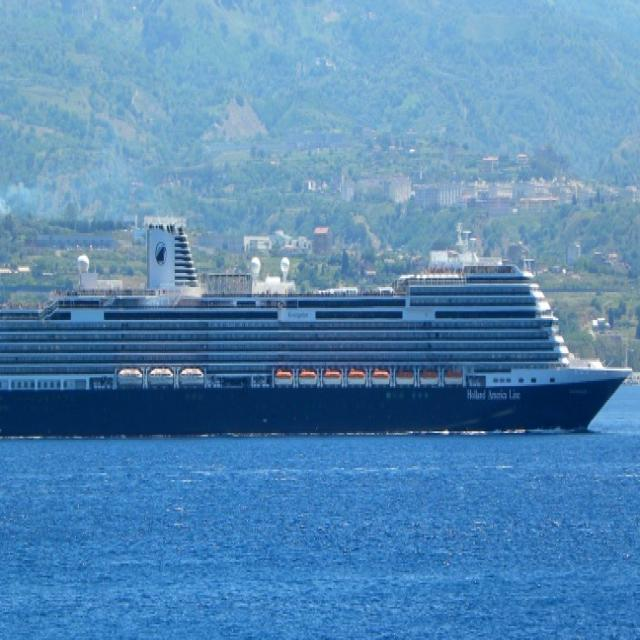cruises: (1, 220, 638, 457)
